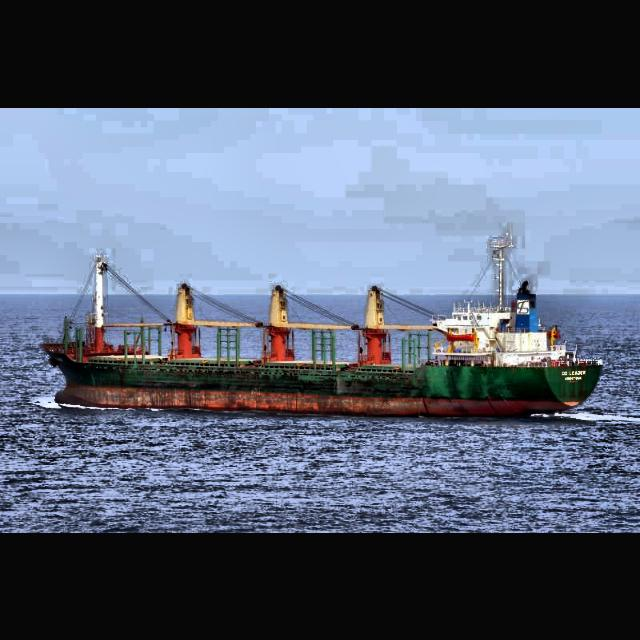bulk_carrier: (40, 236, 604, 420)
